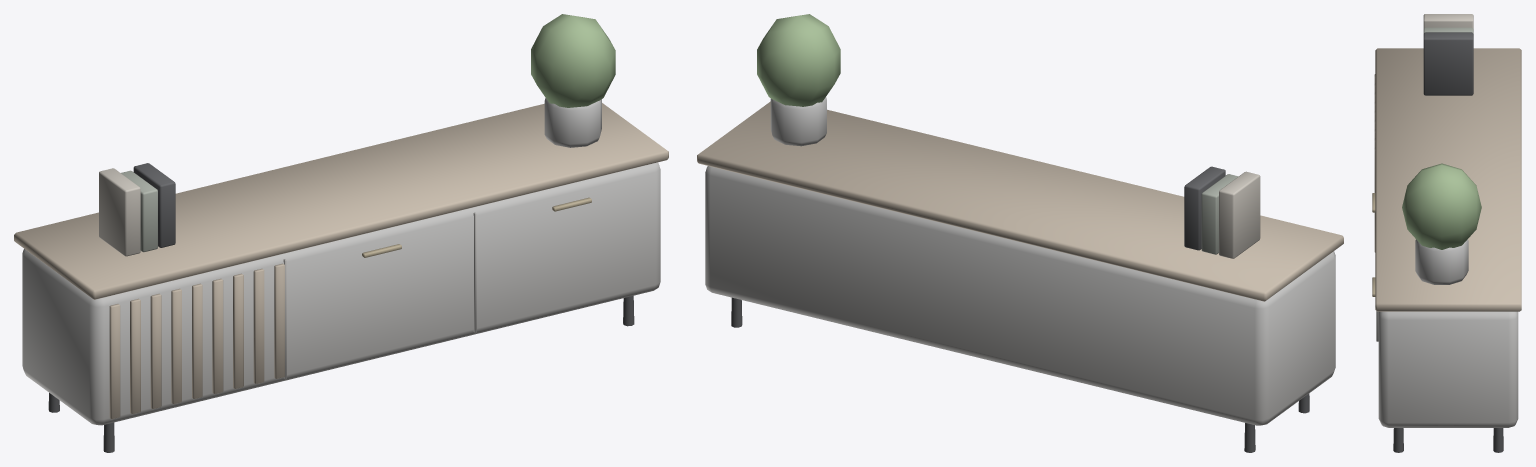
The model's file is white_tv_stand.glb.
The picture shows the model from 3 angles, left to right: view 1: azimuth 30°, elevation 25°; view 2: azimuth 150°, elevation 25°; view 3: azimuth 270°, elevation 25°; orthographic projection. The views are drawn at different scales.
Visible parts, largest first — view 1: white_tv_stand; view 2: white_tv_stand; view 3: white_tv_stand.
Boxes of the visible parts, x1,y1,x2,y2 form: white_tv_stand: [14, 14, 668, 452]; white_tv_stand: [697, 14, 1343, 452]; white_tv_stand: [1372, 14, 1521, 452].
Bounding box in the file's own units: 1.82 × 0.9 × 0.4495.
